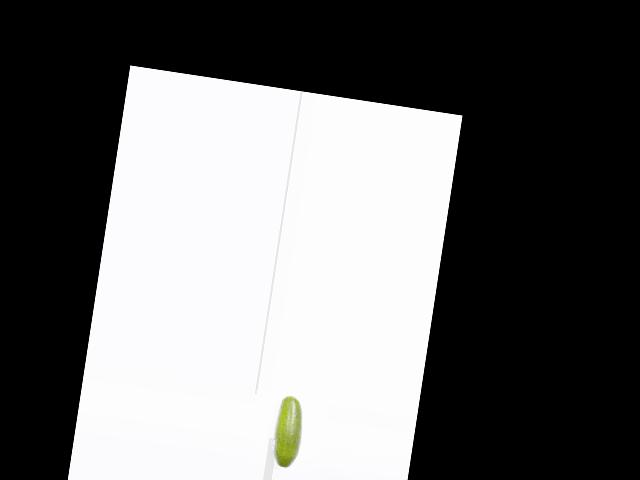cucumber: (269, 394, 307, 470)
